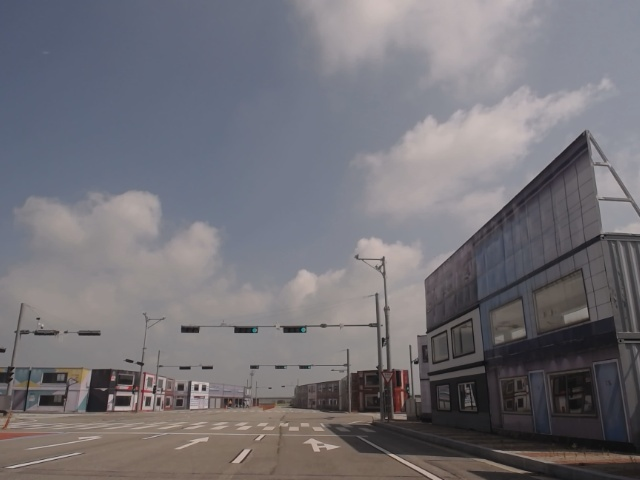straight_green_4: (235, 327, 259, 334), (285, 327, 307, 333)
